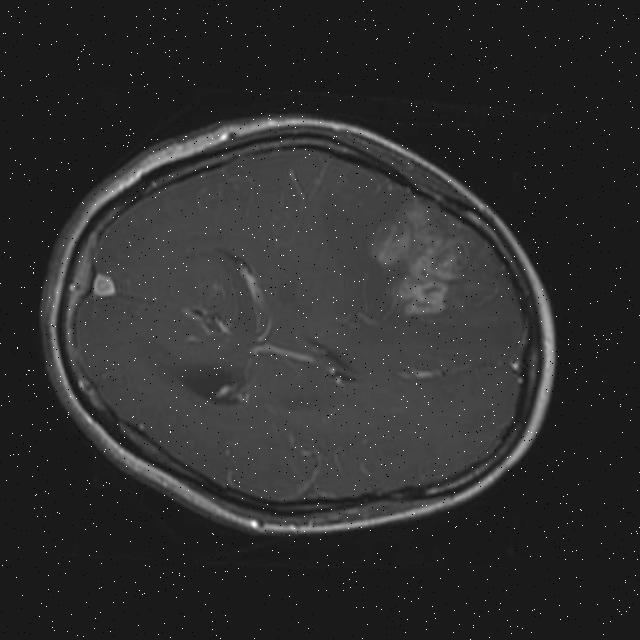Glioma: (370, 196, 469, 321)
